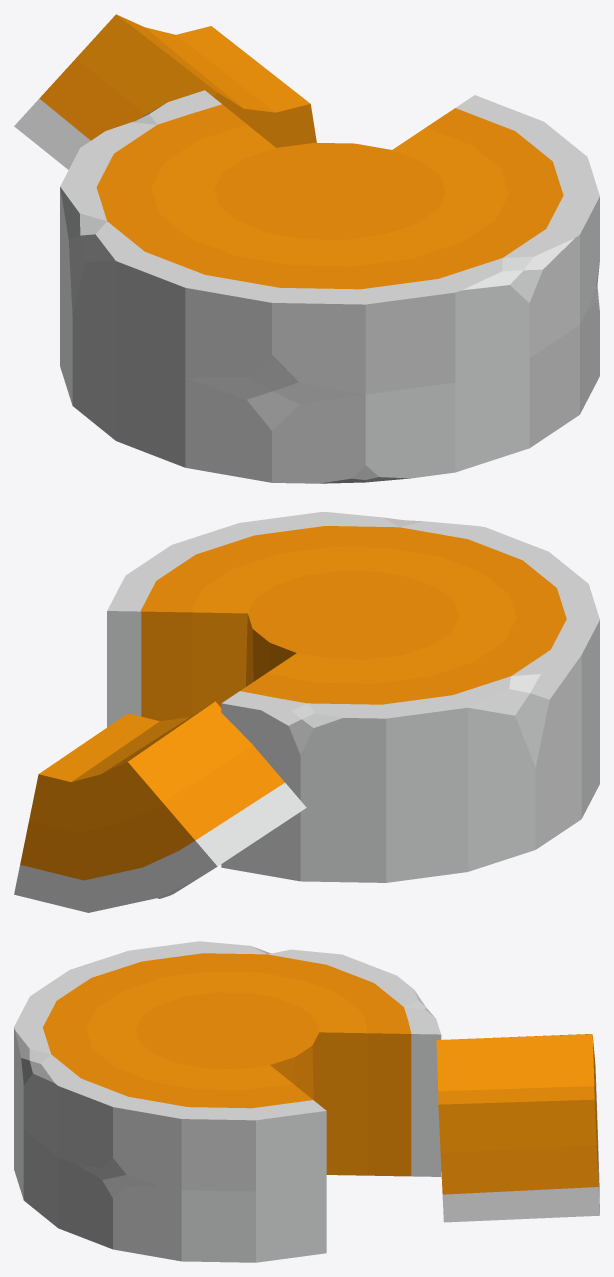
File: Tree log_9.fbx
3 views of the same model, one above another, from view 1: azimuth 30°, elevation 25°; view 2: azimuth 150°, elevation 25°; view 3: azimuth 270°, elevation 25° (orthographic). The views are drawn at different scales.
Visible parts, largest first — view 1: Circle.240, Circle.241; view 2: Circle.240, Circle.241; view 3: Circle.240, Circle.241.
Boxes of the visible parts, bbox=[...] form: Circle.240: bbox=[60, 90, 599, 483]; Circle.241: bbox=[14, 14, 316, 169]; Circle.240: bbox=[107, 512, 599, 882]; Circle.241: bbox=[14, 701, 306, 912]; Circle.240: bbox=[14, 941, 441, 1262]; Circle.241: bbox=[436, 1034, 599, 1222].
Size of the model in its own units: 23.35 by 8.86 by 32.29.
